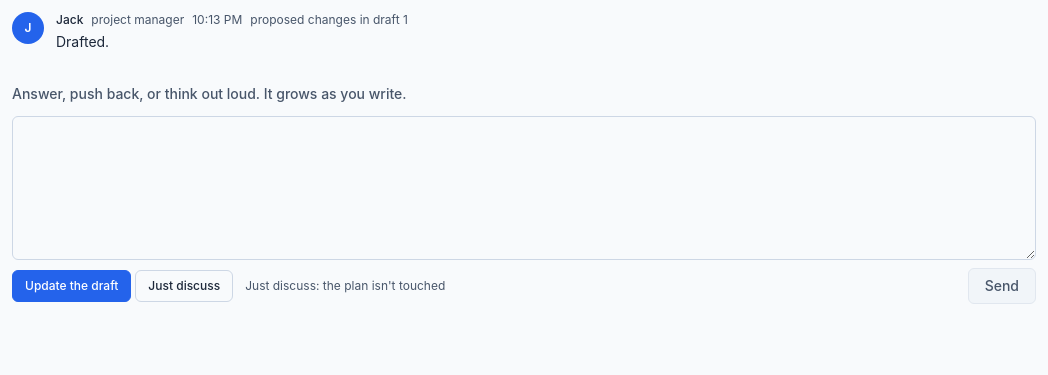
it: sending to Jack (worker context F1) › gives the words back when sending fails
In the text box labelled "Answer, push back, or think out loud. It grows as you write.": (524, 188) [12,116,1036,260], type "Add a level select."
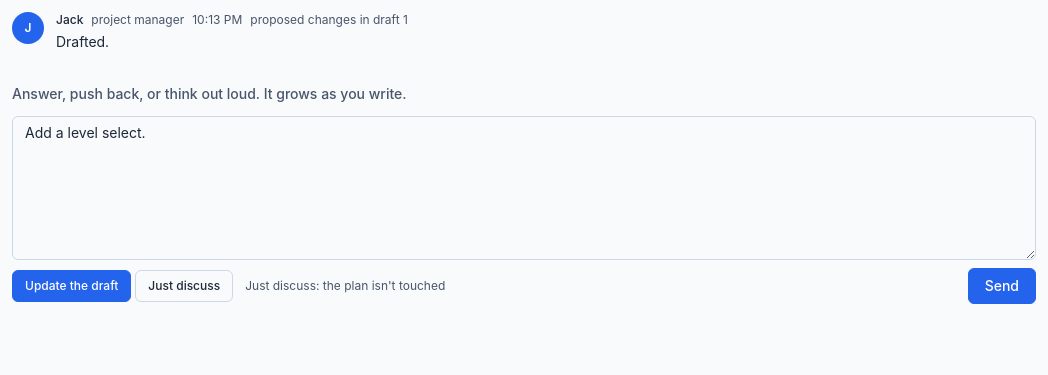
Click the button "Send": (1002, 286) [968,268,1036,304]
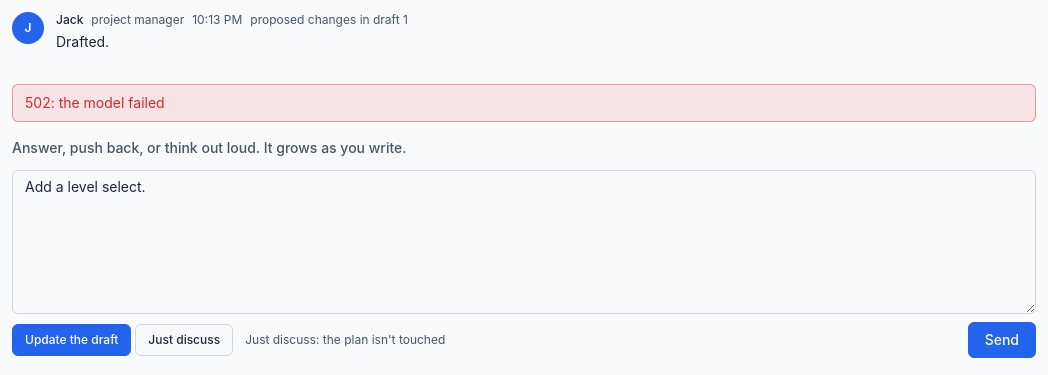
Expected: the message reads "502: the model failed", [25,94,165,111]
